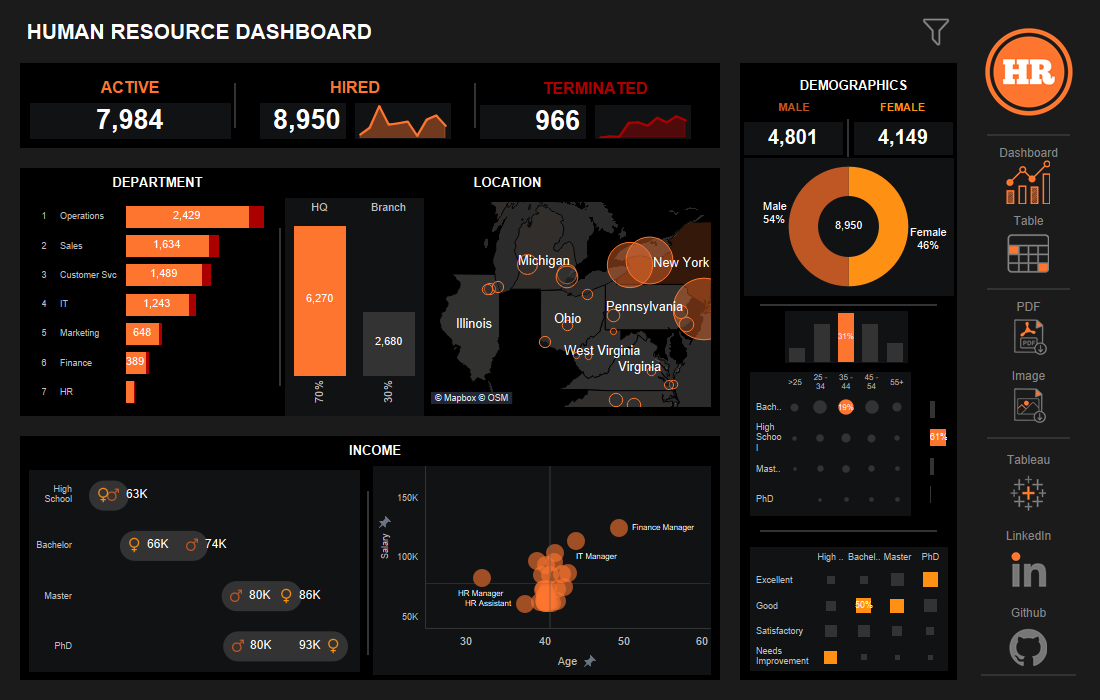

The dashboard page shown, as its layout file describes it:
{"tool":"tableau","page":{"name":"HR DASHBOARD","canvas":[1100,700],"ordinal":0},"visuals":[{"type":"blank","box":[0,0,20,700]},{"type":"text","box":[20,10,891,43]},{"type":"text","box":[20,10,818,43]},{"type":"filter","title":"AGE VS SALARY","param":"[federated.1hsicfo1fo3iwl16g43440go8sc1].[none:Calculation_677510319303634944:nk","box":[423,10,124.5,43]},{"type":"filter","title":"AGE VS SALARY","param":"[federated.1hsicfo1fo3iwl16g43440go8sc1].[none:Gender:nk]","box":[547.5,10,124.5,43]},{"type":"filter","title":"AGE VS SALARY","param":"[federated.1hsicfo1fo3iwl16g43440go8sc1].[none:Calculation_427842014868344837:nk","box":[672,10,124.5,43]},{"type":"filter","title":"AGE VS SALARY","param":"[federated.1hsicfo1fo3iwl16g43440go8sc1].[yr:Hiredate:ok]","box":[796.5,10,124.5,43]},{"type":"text","box":[838,10,83,43]},{"type":"blank","box":[911,10,10,43]},{"type":"dashboard-object","box":[921,10,36,43]},{"type":"dashboard-object","box":[921,10,36,43]},{"type":"image","param":"Image/human-resources-sign-icon-hr-symbol-vector-11241508.png","box":[977,20,103,103.6]},{"type":"blank","box":[20,53,937,10]},{"type":"text","box":[23,53,147,22]},{"type":"blank","box":[170,53,10,194]},{"type":"text","box":[180,53,147,30]},{"type":"blank","box":[327,53,10,194]},{"type":"text","box":[337,53,147,30]},{"type":"blank","box":[484,53,10,194]},{"type":"text","box":[494,53,147,30]},{"type":"blank","box":[641,53,10,194]},{"type":"text","box":[651,53,147,30]},{"type":"blank","box":[798,53,10,194]},{"type":"text","box":[808,53,147,22]},{"type":"blank","box":[20,63,10,85]},{"type":"text","box":[30,63,200,30]},{"type":"blank","box":[230,63,10,85]},{"type":"text","box":[240,63,230,30]},{"type":"blank","box":[470,63,10,85]},{"type":"text","box":[480,63,230,32]},{"type":"blank","box":[710,63,10,85]},{"type":"blank","box":[720,63,20,617]},{"type":"text","box":[740,63,217,35]},{"type":"filter","title":"TABLE","param":"[federated.1hsicfo1fo3iwl16g43440go8sc1].[none:Employee_ID:nk]","box":[23,83,147,49]},{"type":"filter","title":"TABLE","param":"[federated.1hsicfo1fo3iwl16g43440go8sc1].[none:Calculation_584623578199556098:nk","box":[180,83,147,41]},{"type":"filter","title":"TABLE","param":"[federated.1hsicfo1fo3iwl16g43440go8sc1].[none:Department:nk]","box":[337,83,147,49]},{"type":"filter","title":"TABLE","param":"[federated.1hsicfo1fo3iwl16g43440go8sc1].[none:Calculation_427842014868344837:nk","box":[494,83,147,49]},{"type":"filter","title":"TABLE","param":"[federated.1hsicfo1fo3iwl16g43440go8sc1].[none:Calculation_677510319303634944:nk","box":[651,83,147,44]},{"type":"filter","title":"TABLE","param":"[federated.1hsicfo1fo3iwl16g43440go8sc1].[none:Salary:qk]","box":[808,83,147,66]},{"type":"worksheet","title":"ACTIVE","mark":"Automatic","box":[30,93,200,55]},{"type":"worksheet","title":"HIRED","mark":"Automatic","box":[240,93,115,55]},{"type":"worksheet","title":"HIRED PER YEAR","mark":"Line","rows":["Calculation_427842014862921728","Calculation_427842014862921728"],"cols":["Hiredate"],"box":[355,93,115,55]},{"type":"worksheet","title":"TERMINATED","mark":"Automatic","box":[480,95,114.9,53]},{"type":"worksheet","title":"TERMINATED PER YEAR","mark":"Line","rows":["Calculation_427842014863466497","Calculation_427842014863466497"],"cols":["Termdate"],"box":[594.9,95,115.1,53]},{"type":"text","box":[740,98,108.5,20]},{"type":"text","box":[848.5,98,108.5,20]},{"type":"worksheet","title":"MALE","mark":"Automatic","box":[740,118,106.5,40]},{"type":"blank","box":[846.5,118,4,40]},{"type":"worksheet","title":"FEMALE","mark":"Automatic","box":[850.5,118,106.5,40]},{"type":"blank","box":[977,123.6,103,22]},{"type":"filter","title":"TABLE","param":"[federated.1hsicfo1fo3iwl16g43440go8sc1].[none:Calculation_607141575044255746:ok","box":[180,124,147,41]},{"type":"filter","title":"TABLE","param":"[federated.1hsicfo1fo3iwl16g43440go8sc1].[yr:Hiredate:ok]","box":[651,127,147,44]},{"type":"filter","title":"TABLE","param":"[federated.1hsicfo1fo3iwl16g43440go8sc1].[none:Job Title:nk]","box":[337,132,147,49]},{"type":"filter","title":"TABLE","param":"[federated.1hsicfo1fo3iwl16g43440go8sc1].[none:City:nk]","box":[494,132,147,49]},{"type":"text","box":[977,145.6,103,14]},{"type":"blank","box":[20,148,700,20]},{"type":"filter","title":"TABLE","param":"[federated.1hsicfo1fo3iwl16g43440go8sc1].[none:Calculation_584623578204356613:qk","box":[808,149,147,66]},{"type":"worksheet","title":"GENDER","mark":"Pie","cols":["Calculation_607141575042453505","Calculation_607141575042453505"],"box":[740,158,217,141]},{"type":"dashboard-object","box":[977,159.6,103,44.5]},{"type":"filter","title":"TABLE","param":"[federated.1hsicfo1fo3iwl16g43440go8sc1].[none:Gender:nk]","box":[180,165,147,41]},{"type":"text","box":[20,168,265,30]},{"type":"text","box":[285,168,435,30]},{"type":"filter","title":"TABLE","param":"[federated.1hsicfo1fo3iwl16g43440go8sc1].[yr:Termdate:ok]","box":[651,171,147,44]},{"type":"filter","title":"TABLE","param":"[federated.1hsicfo1fo3iwl16g43440go8sc1].[none:State:nk]","box":[494,181,147,49]},{"type":"worksheet","title":"PER DEPT","mark":"Automatic","rows":["Calculation_427842014867652612","Department"],"cols":["Calculation_427842014862921728"],"box":[20,198,255,218]},{"type":"blank","box":[275,198,10,218]},{"type":"worksheet","title":"SEGMENT","mark":"Bar","rows":["Calculation_427842014862921728"],"cols":["Calculation_427842014868344837","Calculation1"],"box":[285,198,138,218]},{"type":"worksheet","title":"MAP","mark":"Multipolygon","box":[423,198,297,218]},{"type":"blank","box":[977,204.1,103,10]},{"type":"filter","title":"TABLE","param":"[federated.1hsicfo1fo3iwl16g43440go8sc1].[none:Education Level:nk]","box":[180,206,147,41]},{"type":"text","box":[977,214.1,103,14]},{"type":"dashboard-object","box":[977,228.1,103,50]},{"type":"worksheet","title":"TABLE","mark":"Shape","rows":["Employee_ID"],"cols":["Calculation_584623578199924740","Calculation_584623578199924740","Calculation_584623578199924740","Calculation_584623578199924740","Calculation_584623578204356613"],"box":[20,247,937,453]},{"type":"blank","box":[977,278.1,103,22]},{"type":"blank","box":[740,299,217,12]},{"type":"text","box":[977,300.1,103,14]},{"type":"worksheet","title":"AGE GROUP","mark":"Automatic","rows":["Calculation_427842014862921728"],"cols":["Calculation_607141575045332995"],"box":[740,311,217,51]},{"type":"dashboard-object","box":[977,314.1,103,44.5]},{"type":"blank","box":[977,358.5,103,10]},{"type":"worksheet","title":"CORELL","mark":"Circle","rows":["Education Level"],"cols":["Calculation_607141575045332995"],"box":[740,362,180,163]},{"type":"worksheet","title":"EDUC GROUP","mark":"Bar","rows":["Education Level"],"cols":["Calculation_427842014862921728"],"box":[920,362,37,163]},{"type":"text","box":[977,368.6,103,14]},{"type":"dashboard-object","box":[977,382.6,103,44.5]},{"type":"blank","box":[20,416,700,20]},{"type":"blank","box":[977,427,103,22]},{"type":"text","box":[20,436,700,30]},{"type":"text","box":[977,449,103,22]},{"type":"worksheet","title":"GENDER EDUC","mark":"Square","rows":["Education Level"],"cols":["Salary","Salary"],"box":[20,466,343,214]},{"type":"blank","box":[363,466,10,214]},{"type":"worksheet","title":"AGE VS SALARY","mark":"Shape","rows":["Salary"],"cols":["Calculation_607141575044255746"],"box":[373,466,347,214]},{"type":"image","param":"Image/contact-public.png","box":[977,471,103,44.5]},{"type":"blank","box":[977,515.5,103,10]},{"type":"blank","box":[740,525,217,12]},{"type":"text","box":[977,525.5,103,22]},{"type":"worksheet","title":"EDUC PERF","mark":"Square","rows":["Performance Rating"],"cols":["Education Level"],"box":[740,537,217,143]},{"type":"image","param":"Image/contact-linkedin.png","box":[977,547.5,103,44.5]},{"type":"blank","box":[977,592,103,10]},{"type":"text","box":[977,602,103,22]},{"type":"image","param":"Image/github.png","box":[977,624,103,46]},{"type":"blank","box":[977,670,103,10]},{"type":"blank","box":[20,680,937,20]}]}

Visuals, with their boxes in screenshot pixels (x1, y1, x2, y2), scaled from the page's 1100x700 canvas onto the 1100x700 screenshot:
blank: [x1=0, y1=0, x2=20, y2=699]
text: [x1=20, y1=10, x2=911, y2=53]
text: [x1=20, y1=10, x2=838, y2=53]
"AGE VS SALARY" filter: [x1=423, y1=10, x2=548, y2=53]
"AGE VS SALARY" filter: [x1=548, y1=10, x2=672, y2=53]
"AGE VS SALARY" filter: [x1=672, y1=10, x2=796, y2=53]
"AGE VS SALARY" filter: [x1=796, y1=10, x2=921, y2=53]
text: [x1=838, y1=10, x2=921, y2=53]
blank: [x1=911, y1=10, x2=921, y2=53]
dashboard-object: [x1=921, y1=10, x2=957, y2=53]
dashboard-object: [x1=921, y1=10, x2=957, y2=53]
image: [x1=977, y1=20, x2=1080, y2=124]
blank: [x1=20, y1=53, x2=957, y2=63]
text: [x1=23, y1=53, x2=170, y2=75]
blank: [x1=170, y1=53, x2=180, y2=247]
text: [x1=180, y1=53, x2=327, y2=83]
blank: [x1=327, y1=53, x2=337, y2=247]
text: [x1=337, y1=53, x2=484, y2=83]
blank: [x1=484, y1=53, x2=494, y2=247]
text: [x1=494, y1=53, x2=641, y2=83]
blank: [x1=641, y1=53, x2=651, y2=247]
text: [x1=651, y1=53, x2=798, y2=83]
blank: [x1=798, y1=53, x2=808, y2=247]
text: [x1=808, y1=53, x2=955, y2=75]
blank: [x1=20, y1=63, x2=30, y2=148]
text: [x1=30, y1=63, x2=230, y2=93]
blank: [x1=230, y1=63, x2=240, y2=148]
text: [x1=240, y1=63, x2=470, y2=93]
blank: [x1=470, y1=63, x2=480, y2=148]
text: [x1=480, y1=63, x2=710, y2=95]
blank: [x1=710, y1=63, x2=720, y2=148]
blank: [x1=720, y1=63, x2=740, y2=680]
text: [x1=740, y1=63, x2=957, y2=98]
"TABLE" filter: [x1=23, y1=83, x2=170, y2=132]
"TABLE" filter: [x1=180, y1=83, x2=327, y2=124]
"TABLE" filter: [x1=337, y1=83, x2=484, y2=132]
"TABLE" filter: [x1=494, y1=83, x2=641, y2=132]
"TABLE" filter: [x1=651, y1=83, x2=798, y2=127]
"TABLE" filter: [x1=808, y1=83, x2=955, y2=149]
"ACTIVE" worksheet: [x1=30, y1=93, x2=230, y2=148]
"HIRED" worksheet: [x1=240, y1=93, x2=355, y2=148]
"HIRED PER YEAR" worksheet (Line marks): [x1=355, y1=93, x2=470, y2=148]
"TERMINATED" worksheet: [x1=480, y1=95, x2=595, y2=148]
"TERMINATED PER YEAR" worksheet (Line marks): [x1=595, y1=95, x2=710, y2=148]
text: [x1=740, y1=98, x2=848, y2=118]
text: [x1=848, y1=98, x2=957, y2=118]
"MALE" worksheet: [x1=740, y1=118, x2=846, y2=158]
blank: [x1=846, y1=118, x2=850, y2=158]
"FEMALE" worksheet: [x1=850, y1=118, x2=957, y2=158]
blank: [x1=977, y1=124, x2=1080, y2=146]
"TABLE" filter: [x1=180, y1=124, x2=327, y2=165]
"TABLE" filter: [x1=651, y1=127, x2=798, y2=171]
"TABLE" filter: [x1=337, y1=132, x2=484, y2=181]
"TABLE" filter: [x1=494, y1=132, x2=641, y2=181]
text: [x1=977, y1=146, x2=1080, y2=160]
blank: [x1=20, y1=148, x2=720, y2=168]
"TABLE" filter: [x1=808, y1=149, x2=955, y2=215]
"GENDER" worksheet (Pie marks): [x1=740, y1=158, x2=957, y2=299]
dashboard-object: [x1=977, y1=160, x2=1080, y2=204]
"TABLE" filter: [x1=180, y1=165, x2=327, y2=206]
text: [x1=20, y1=168, x2=285, y2=198]
text: [x1=285, y1=168, x2=720, y2=198]
"TABLE" filter: [x1=651, y1=171, x2=798, y2=215]
"TABLE" filter: [x1=494, y1=181, x2=641, y2=230]
"PER DEPT" worksheet: [x1=20, y1=198, x2=275, y2=416]
blank: [x1=275, y1=198, x2=285, y2=416]
"SEGMENT" worksheet (Bar marks): [x1=285, y1=198, x2=423, y2=416]
"MAP" worksheet (Multipolygon marks): [x1=423, y1=198, x2=720, y2=416]
blank: [x1=977, y1=204, x2=1080, y2=214]
"TABLE" filter: [x1=180, y1=206, x2=327, y2=247]
text: [x1=977, y1=214, x2=1080, y2=228]
dashboard-object: [x1=977, y1=228, x2=1080, y2=278]
"TABLE" worksheet (Shape marks): [x1=20, y1=247, x2=957, y2=699]
blank: [x1=977, y1=278, x2=1080, y2=300]
blank: [x1=740, y1=299, x2=957, y2=311]
text: [x1=977, y1=300, x2=1080, y2=314]
"AGE GROUP" worksheet: [x1=740, y1=311, x2=957, y2=362]
dashboard-object: [x1=977, y1=314, x2=1080, y2=359]
blank: [x1=977, y1=358, x2=1080, y2=368]
"CORELL" worksheet (Circle marks): [x1=740, y1=362, x2=920, y2=525]
"EDUC GROUP" worksheet (Bar marks): [x1=920, y1=362, x2=957, y2=525]
text: [x1=977, y1=369, x2=1080, y2=383]
dashboard-object: [x1=977, y1=383, x2=1080, y2=427]
blank: [x1=20, y1=416, x2=720, y2=436]
blank: [x1=977, y1=427, x2=1080, y2=449]
text: [x1=20, y1=436, x2=720, y2=466]
text: [x1=977, y1=449, x2=1080, y2=471]
"GENDER EDUC" worksheet (Square marks): [x1=20, y1=466, x2=363, y2=680]
blank: [x1=363, y1=466, x2=373, y2=680]
"AGE VS SALARY" worksheet (Shape marks): [x1=373, y1=466, x2=720, y2=680]
image: [x1=977, y1=471, x2=1080, y2=516]
blank: [x1=977, y1=516, x2=1080, y2=526]
blank: [x1=740, y1=525, x2=957, y2=537]
text: [x1=977, y1=526, x2=1080, y2=548]
"EDUC PERF" worksheet (Square marks): [x1=740, y1=537, x2=957, y2=680]
image: [x1=977, y1=548, x2=1080, y2=592]
blank: [x1=977, y1=592, x2=1080, y2=602]
text: [x1=977, y1=602, x2=1080, y2=624]
image: [x1=977, y1=624, x2=1080, y2=670]
blank: [x1=977, y1=670, x2=1080, y2=680]
blank: [x1=20, y1=680, x2=957, y2=699]
